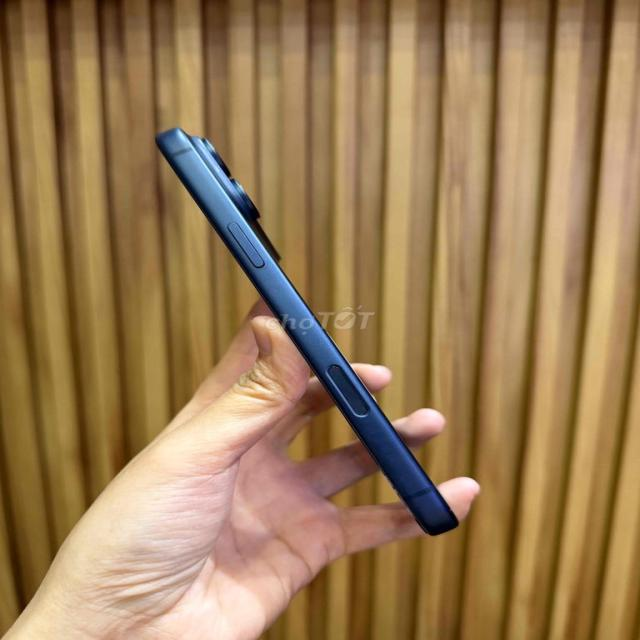gen_17: (150, 108, 474, 548)
